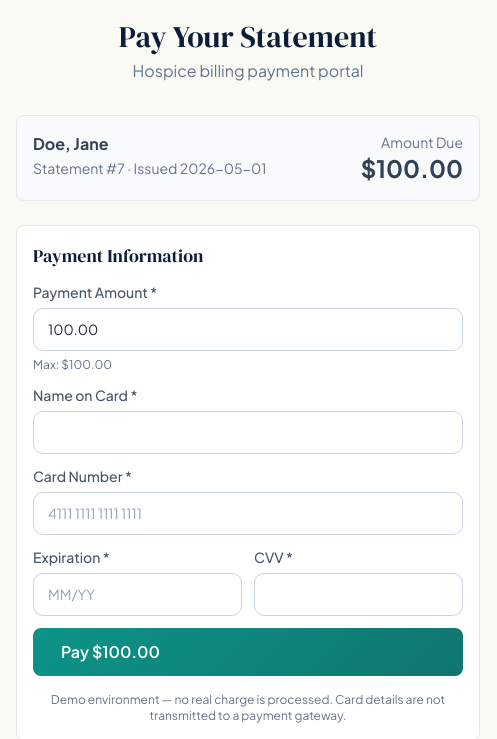
PortalPaymentPage › submits a payment and shows confirmation
The width and height of the screenshot is (497, 739).
Check: the heading "Pay Your Statement" is shown, box [119,16,377,57]
Type "Jane Doe" into the field labelled "Name on Card *".
click(248, 432); type("Jane Doe")  # box [33,411,463,454]
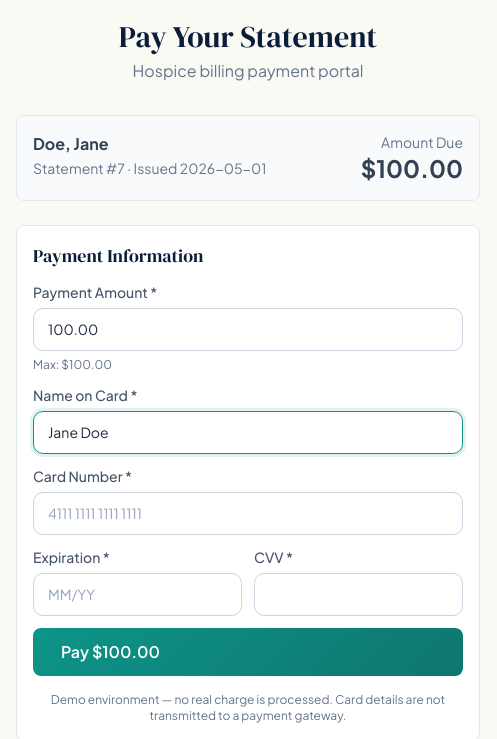
Type "4111111111111111" into the field labelled "Card Number *".
click(248, 514); type("4111111111111111")  # box [33,492,463,535]
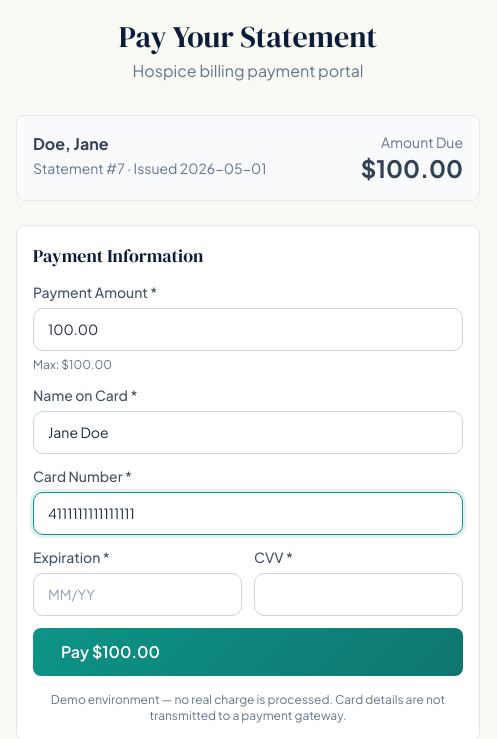
Type "12/29" into the field labelled "Expiration *".
click(138, 594); type("12/29")  # box [33,573,242,616]
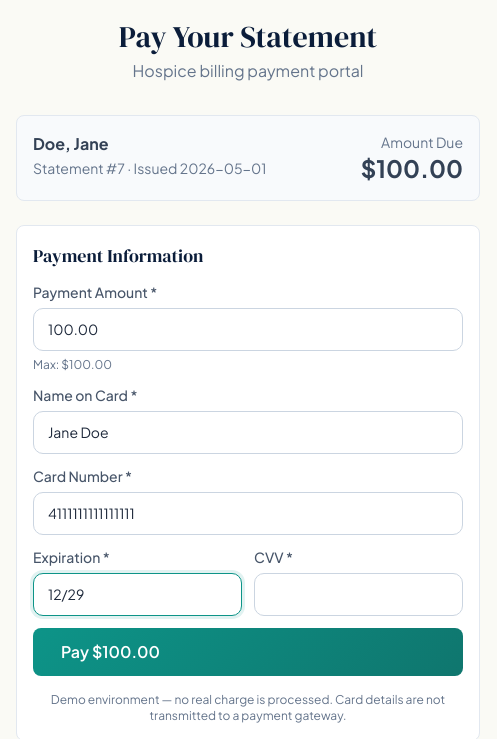
Type "123" into the field labelled "CVV *".
click(358, 594); type("123")  # box [254,573,463,616]
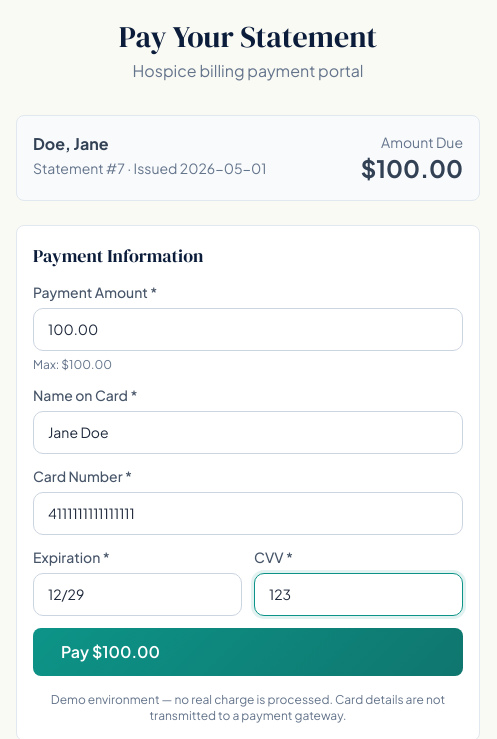
Click the button "Pay $100.00".
click(110, 652)  # box [33,628,463,676]
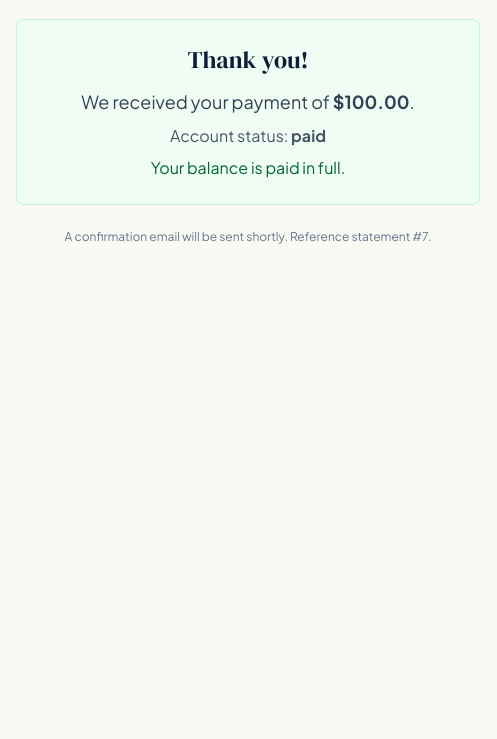
Check: the heading "Thank you!" is shown, box [187,43,308,76]
Check: the text "Your balance is paid in full." is shown, box [151,157,345,178]
